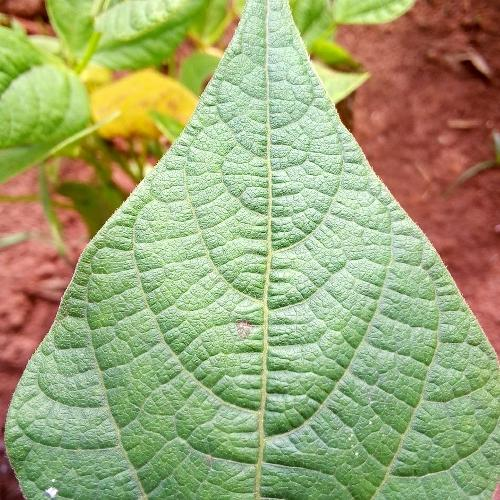hawar: (274, 392, 404, 478), (188, 424, 222, 473), (223, 314, 258, 356), (28, 464, 68, 500)
